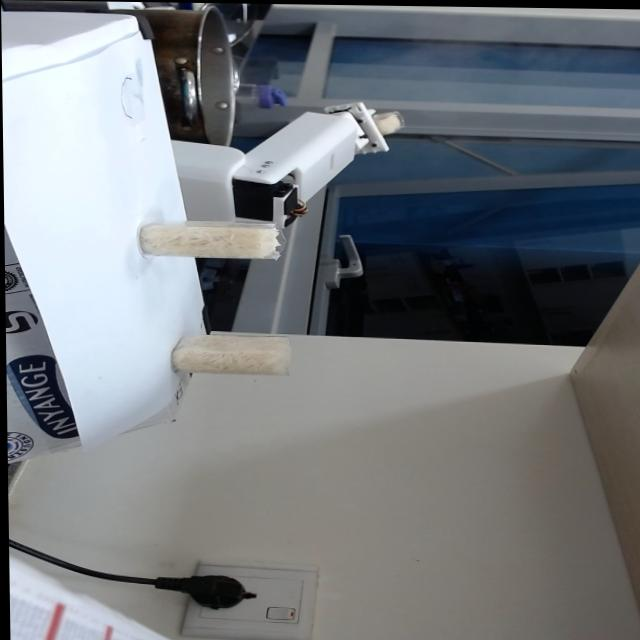raw_rice: (138, 223, 268, 258), (168, 337, 284, 375)
